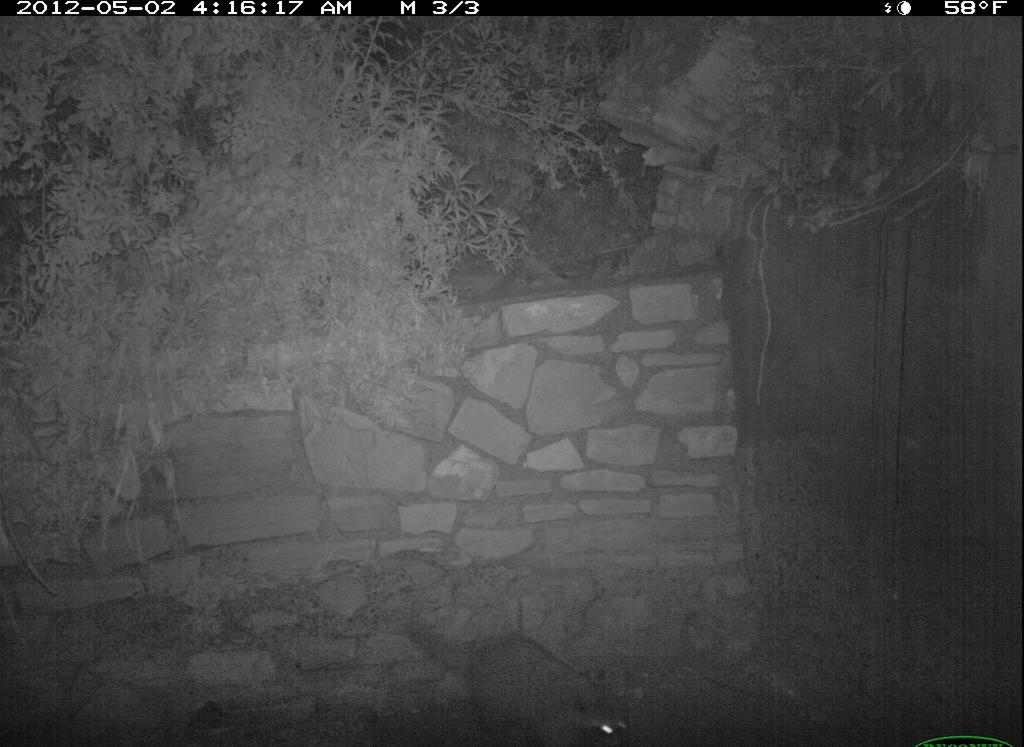raccoon: (402, 603, 647, 742)
